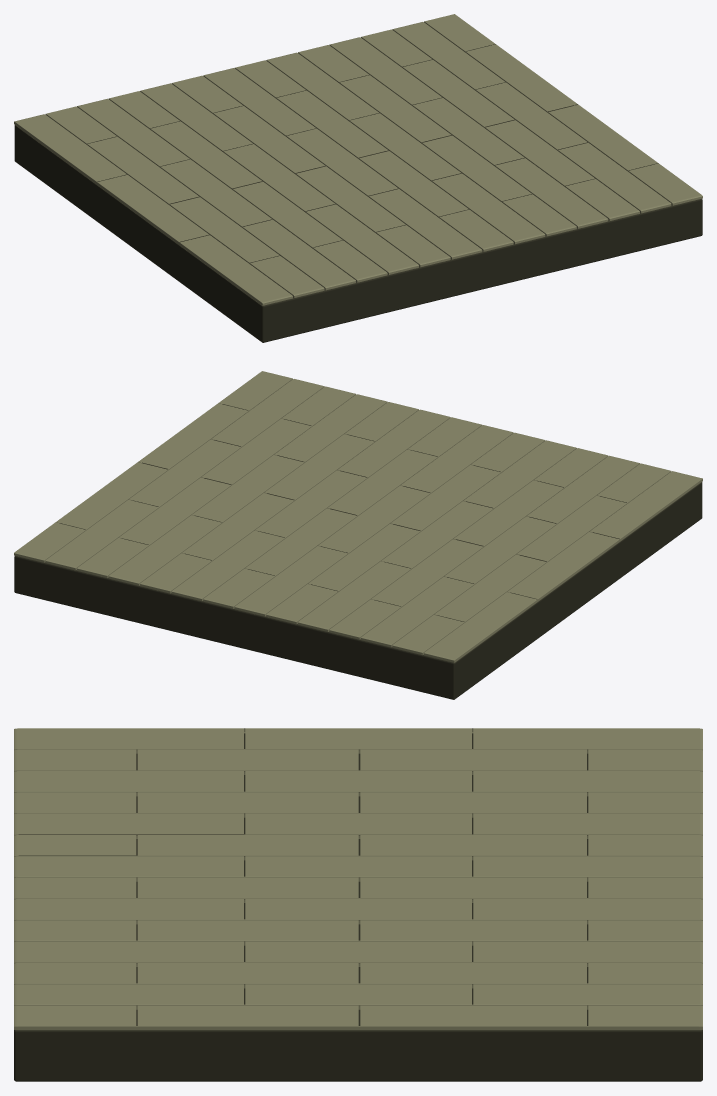
Rendered from floor.fbx.
3 renders of one model, top to bottom at view 1: azimuth 30°, elevation 25°; view 2: azimuth 150°, elevation 25°; view 3: azimuth 270°, elevation 25°, orthographic. The views are drawn at different scales.
Visible parts, largest first — view 1: FlooringPanel, Foundation; view 2: FlooringPanel, Foundation; view 3: FlooringPanel, Foundation.
Part boxes in pixels (x1,y1,x2,y2): FlooringPanel: (14, 14, 702, 305); Foundation: (14, 45, 702, 342); FlooringPanel: (14, 371, 702, 662); Foundation: (14, 404, 702, 699); FlooringPanel: (14, 728, 702, 1030); Foundation: (14, 733, 702, 1081).
Bounding box in the file's own units: 374 × 32.89 × 366.
